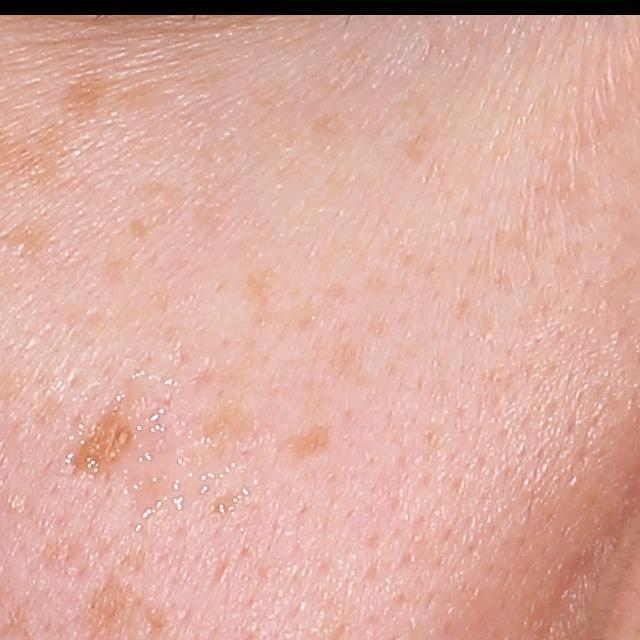melasma: (192, 402, 264, 476), (65, 413, 137, 481), (82, 573, 137, 632), (293, 415, 341, 472), (237, 264, 277, 331), (325, 338, 378, 387), (63, 73, 114, 123), (399, 115, 448, 165), (303, 111, 353, 141), (3, 226, 51, 257), (128, 217, 153, 243)
